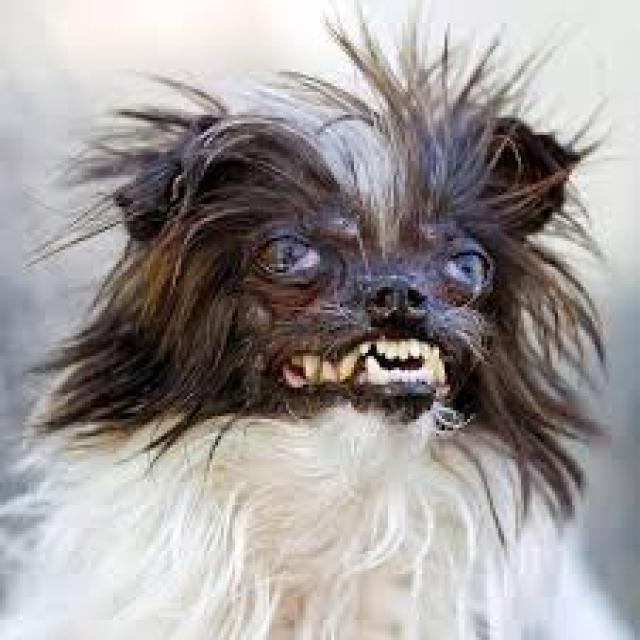dog: (30, 1, 610, 639)
